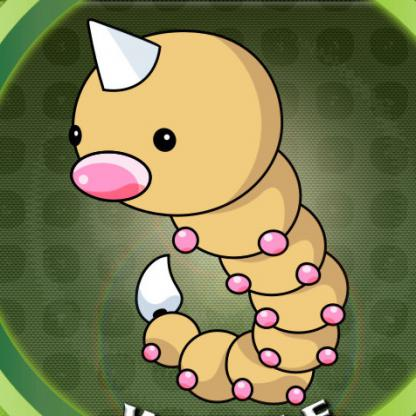Weedle: (60, 17, 340, 402)
